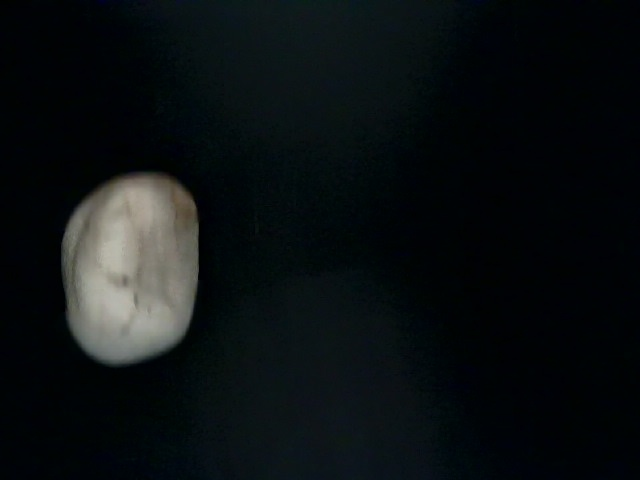QTLJ: (354, 360, 610, 480)
